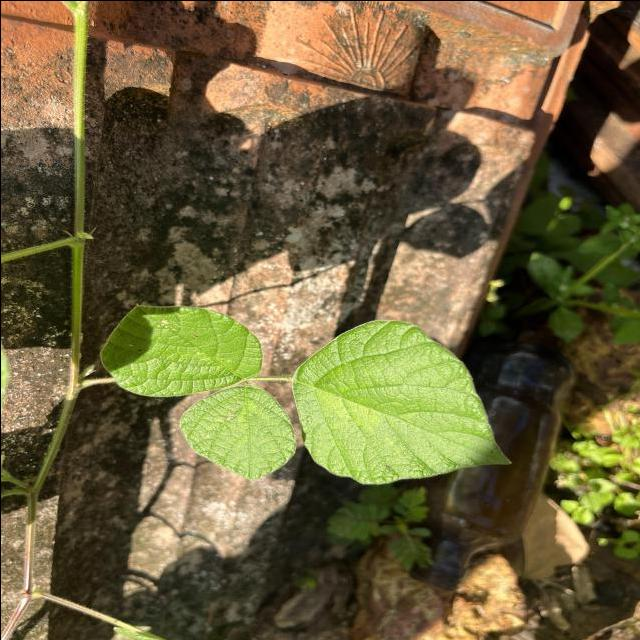Pseudarthria viscida: (95, 296, 518, 486)
